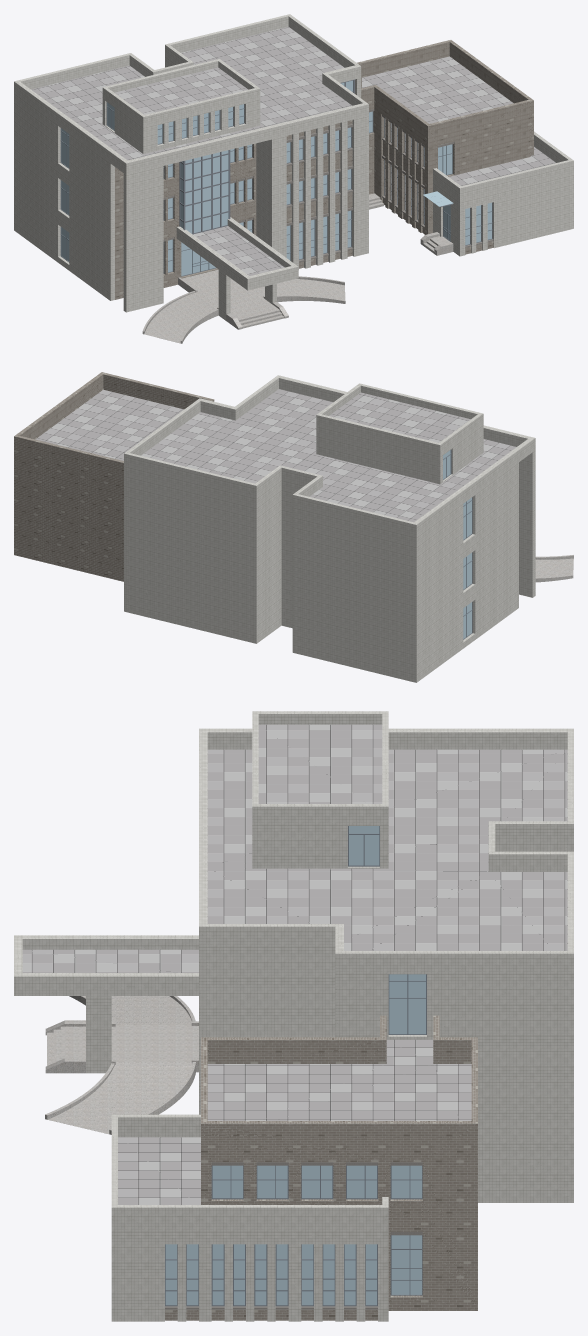
The model's file is office.gltf.
3 renders of one model, top to bottom at view 1: azimuth 30°, elevation 25°; view 2: azimuth 150°, elevation 25°; view 3: azimuth 270°, elevation 25°, orthographic. The views are drawn at different scales.
Parts seen in each view (by area): view 1: 办公楼150; view 2: 办公楼150; view 3: 办公楼150.
Part boxes in pixels (box(x1,y1,x2,y2)): 办公楼150: box(14, 14, 573, 343); 办公楼150: box(14, 372, 573, 682); 办公楼150: box(14, 711, 573, 1321).
Size of the model in its own units: 39.08 by 15.21 by 26.28.
Materials: 8 (5 with a texture image).
